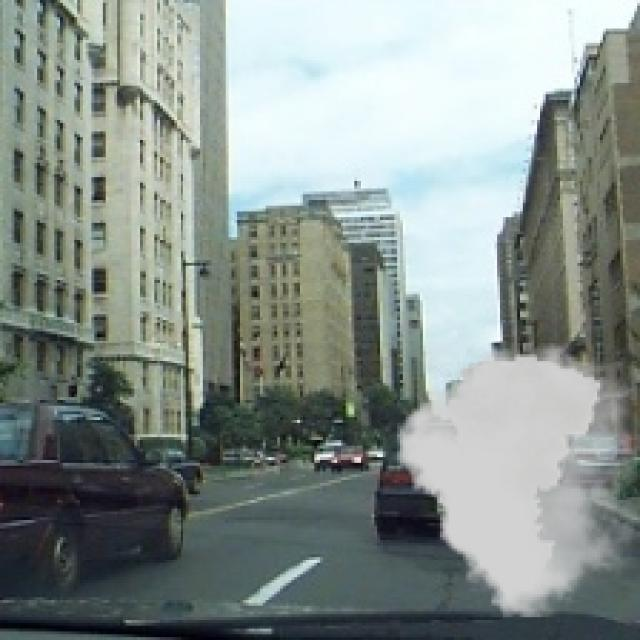Smoke: (397, 342, 637, 618)
